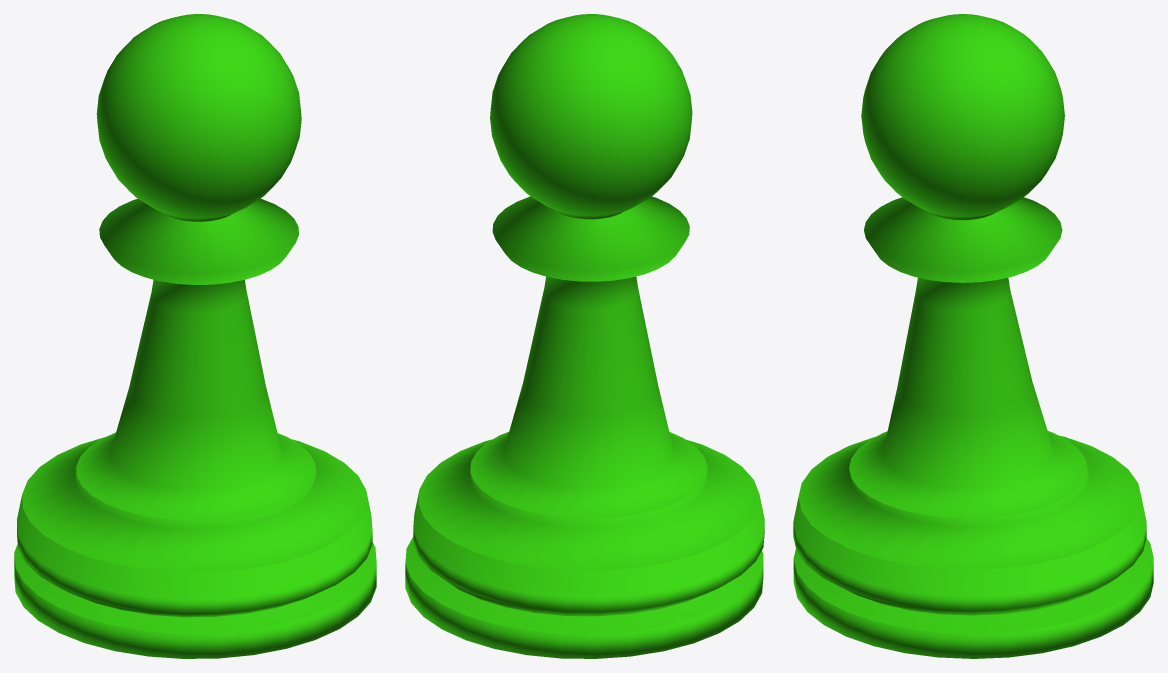
File: green1.glb
The picture shows the model from 3 angles, left to right: view 1: azimuth 30°, elevation 25°; view 2: azimuth 150°, elevation 25°; view 3: azimuth 270°, elevation 25°; orthographic projection.
Parts seen in each view (by area): view 1: Sphere_0; view 2: Sphere_0; view 3: Sphere_0.
Part boxes in pixels (x1,y1,x2,y2): Sphere_0: [14, 14, 376, 658]; Sphere_0: [405, 14, 764, 658]; Sphere_0: [793, 14, 1153, 658].
Bounding box in the file's own units: 2.83 × 4.84 × 2.83.
